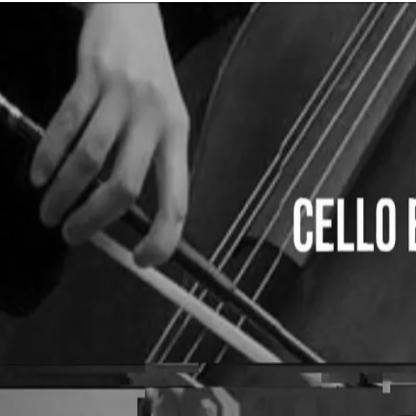good: (24, 24, 204, 293)
